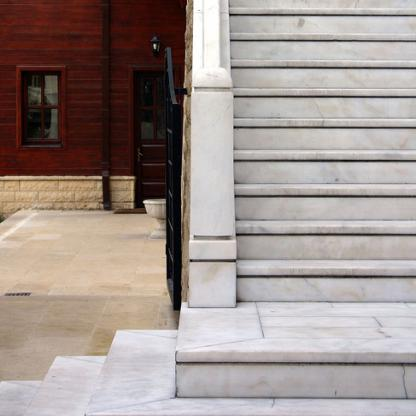stairs: (245, 101, 416, 323)
